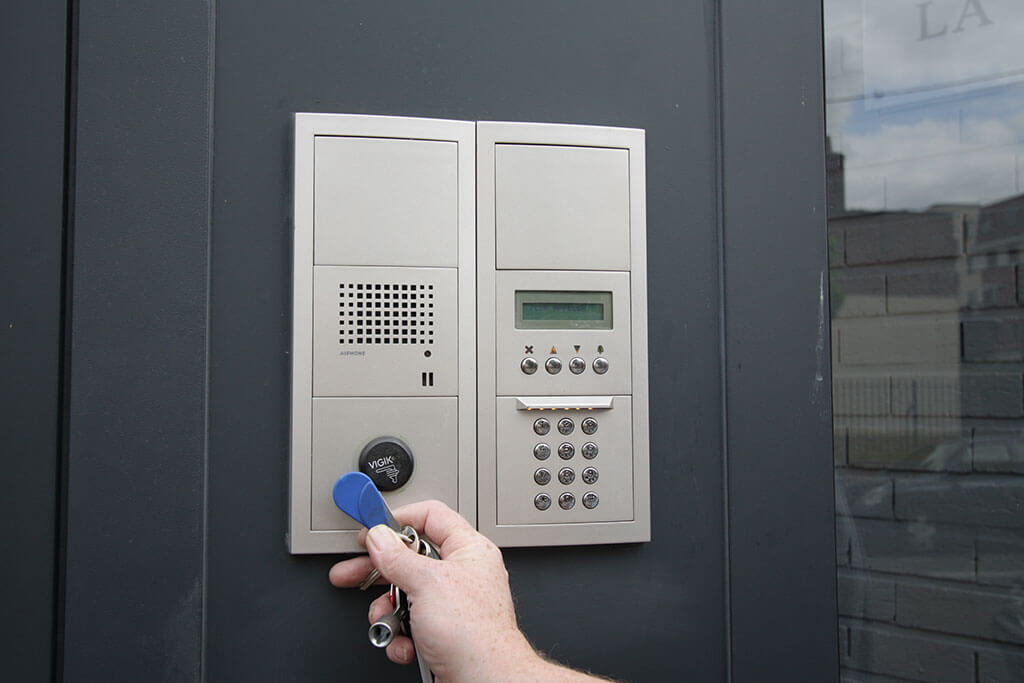digicode: (530, 415, 603, 515)
